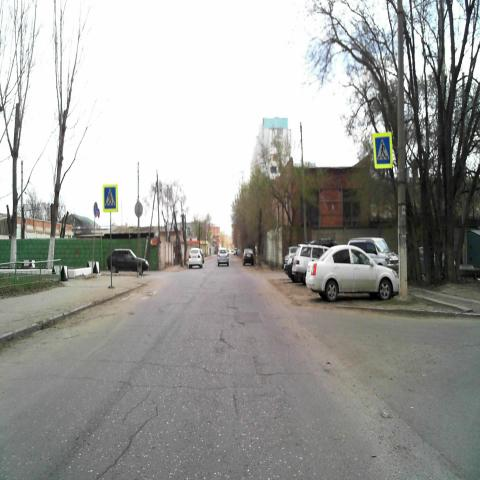3_28: (93, 201, 99, 219)
